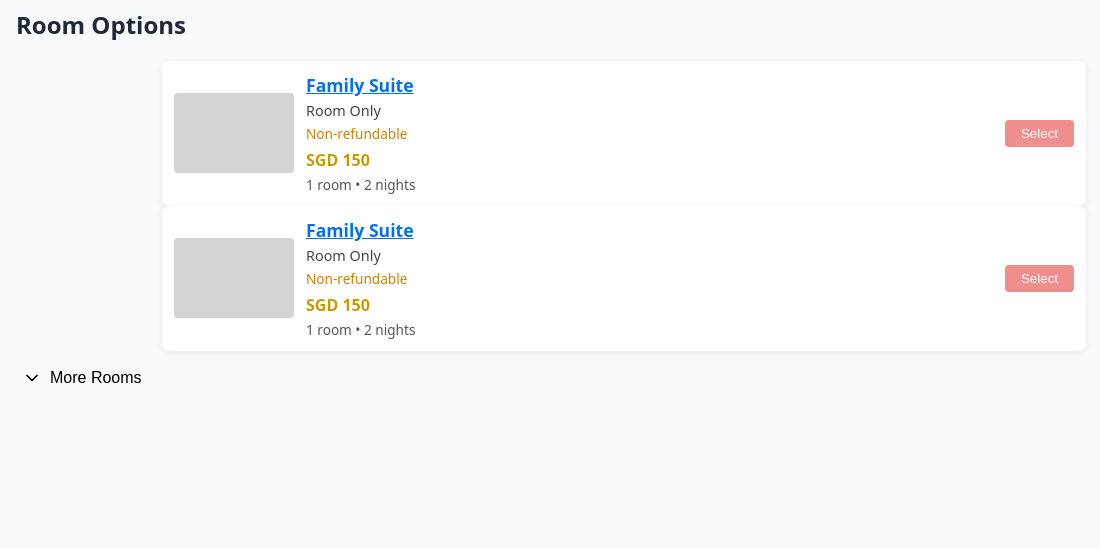
Test: toggles More Rooms button text
# click it
Click the button "More Rooms" at (82, 378), box [16, 367, 148, 389]
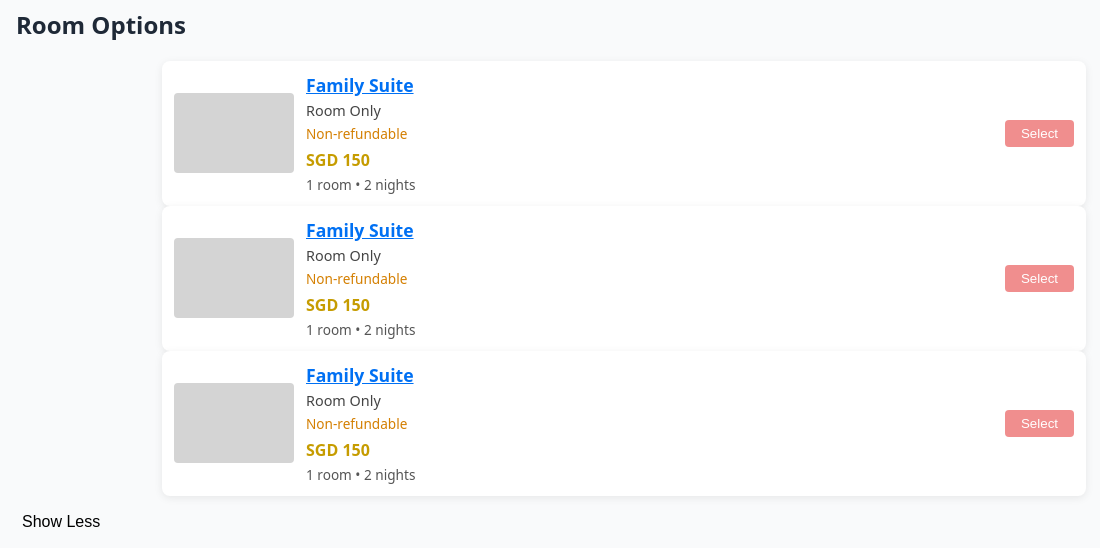
Expected: the button "Show Less" is shown, [16, 512, 106, 532]
